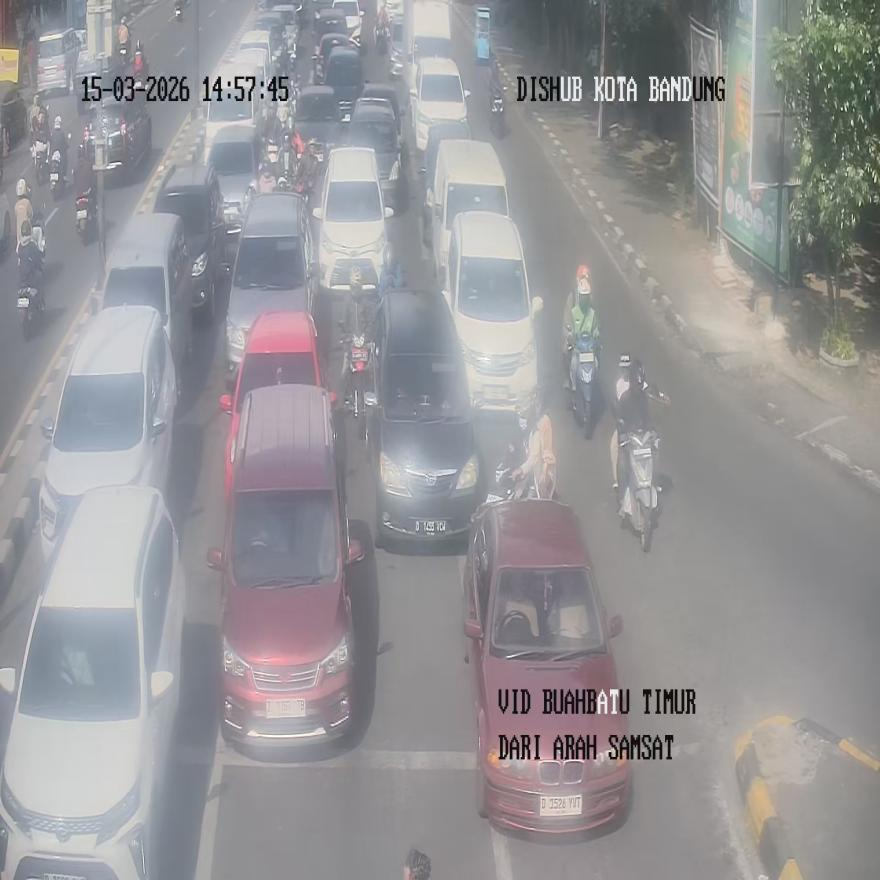Mobil: (0, 485, 186, 878), (206, 383, 364, 746), (462, 500, 629, 834), (39, 304, 178, 567), (365, 288, 482, 541), (219, 308, 337, 502), (442, 210, 544, 418), (223, 191, 319, 372), (98, 212, 192, 384), (312, 144, 393, 298), (428, 139, 509, 286), (155, 162, 228, 324)
Motor: (612, 426, 659, 552), (566, 336, 599, 439), (17, 230, 45, 339), (488, 59, 505, 136), (75, 187, 93, 242), (30, 137, 50, 186), (48, 148, 66, 202), (175, 0, 184, 21)
